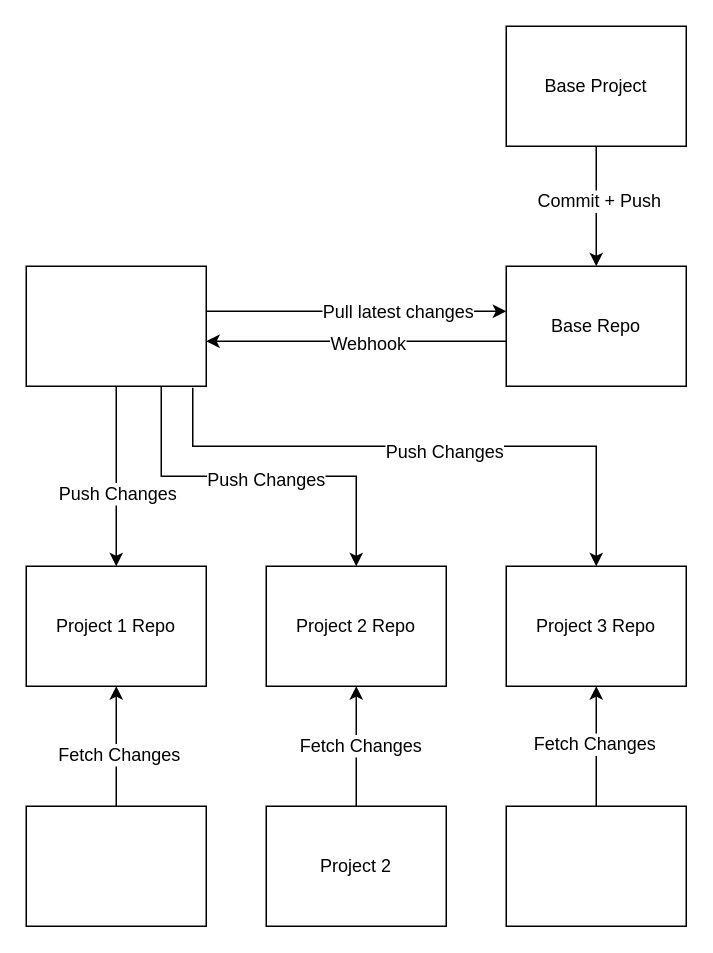
The diagram is 713 pixels wide and 953 high, and some of its shapes have lost their labels. The centre of each missing label's shape, as x and y in pixels:
Project 1: point (115, 865)
Project 3: point (595, 865)
Synchronization Server: point (115, 325)
